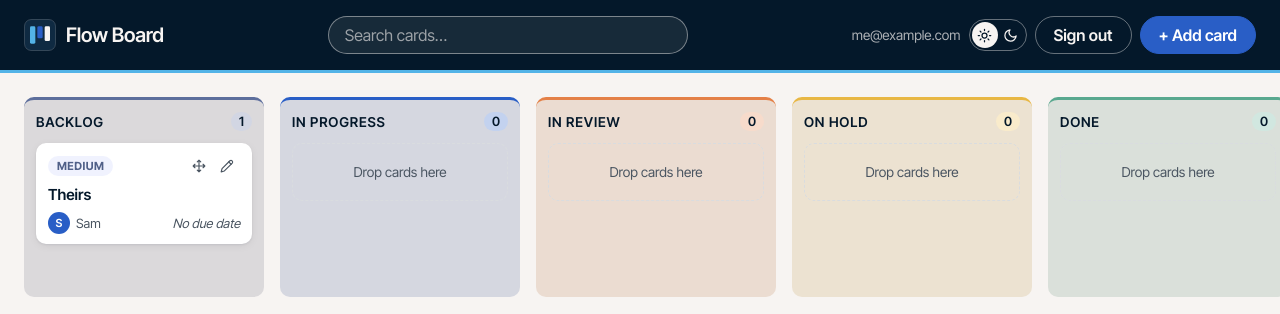
card ownership › lets teammates edit each other’s cards (shared board)
Click the button "Theirs": coordinates (144, 194) 48,185 -> 240,204
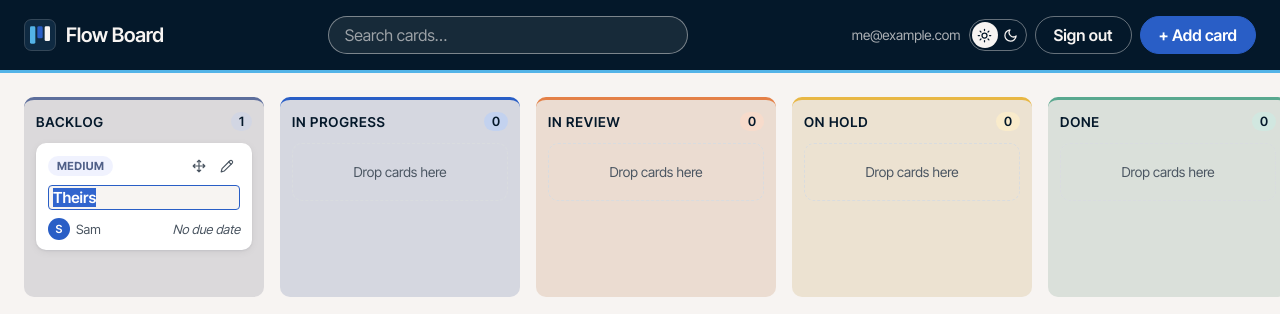
In the field named "Card title": coordinates (144, 198) 48,185 -> 240,210, type " (reviewed)"
Then press Enter
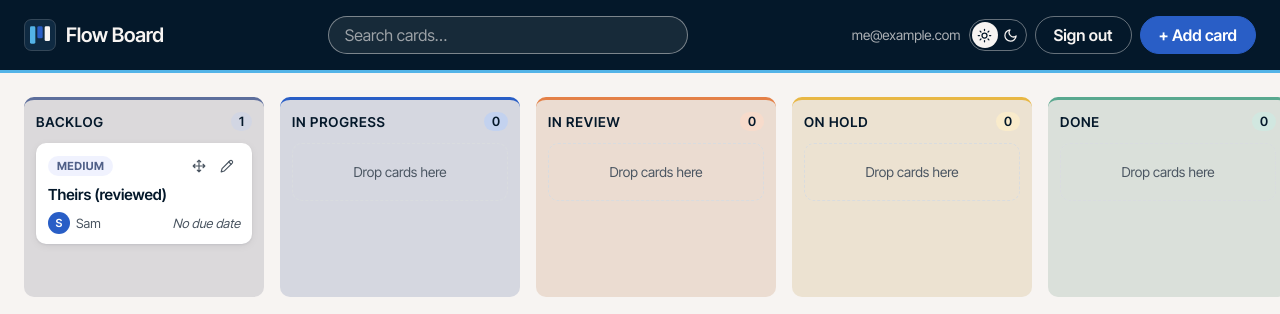
Expected: the button "Theirs (reviewed)" is shown, 48,185 -> 240,204
